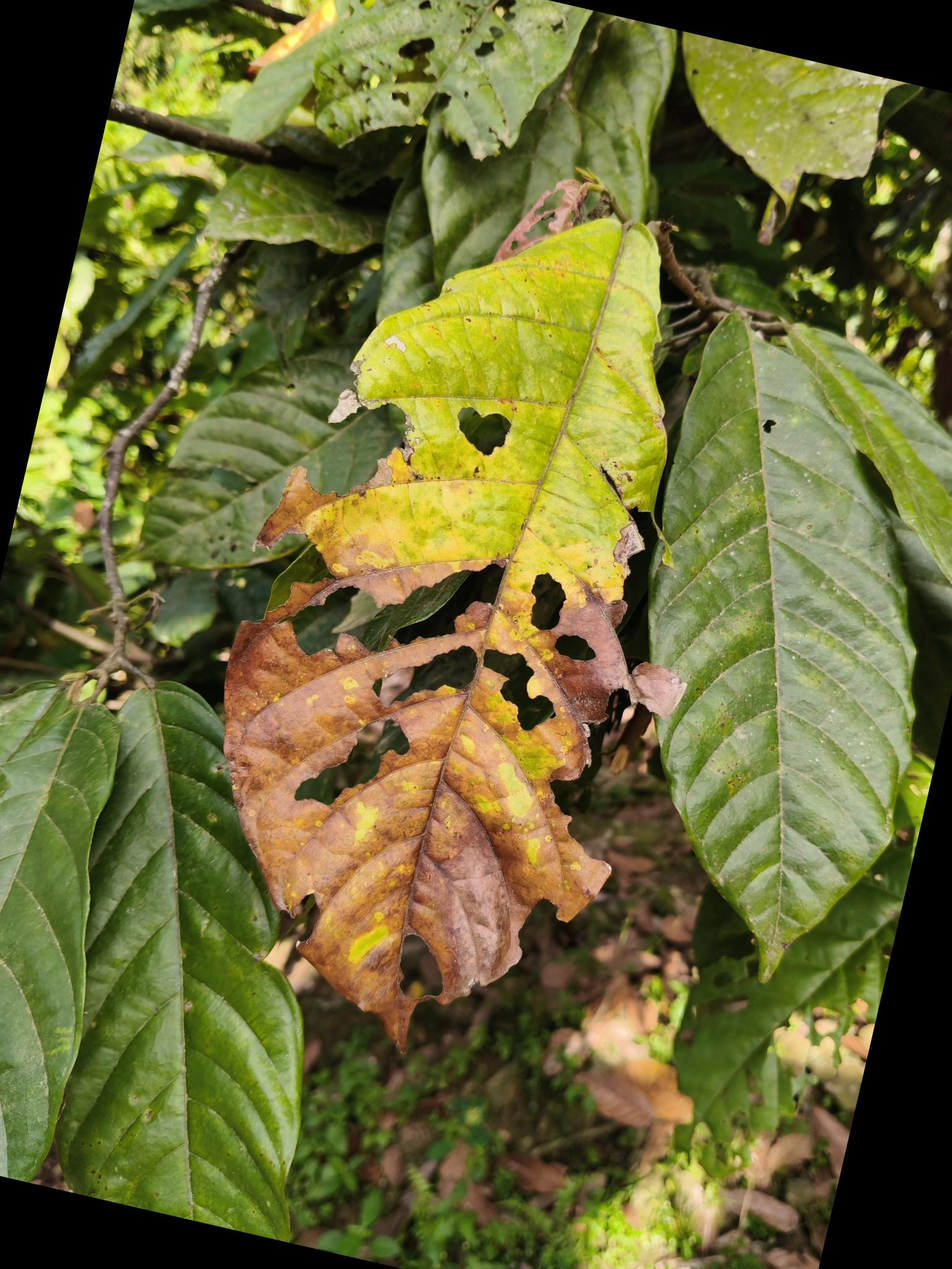Fosforo: (215, 195, 671, 1064)
